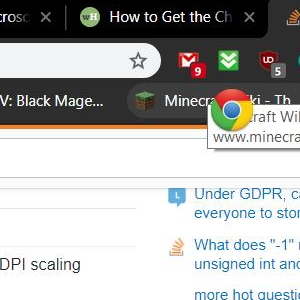chrome: (211, 88, 253, 132)
